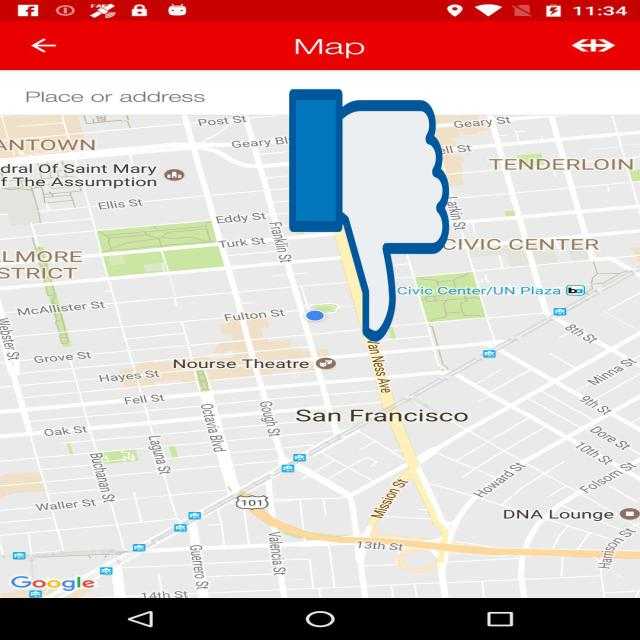obstruction: (289, 84, 449, 347)
